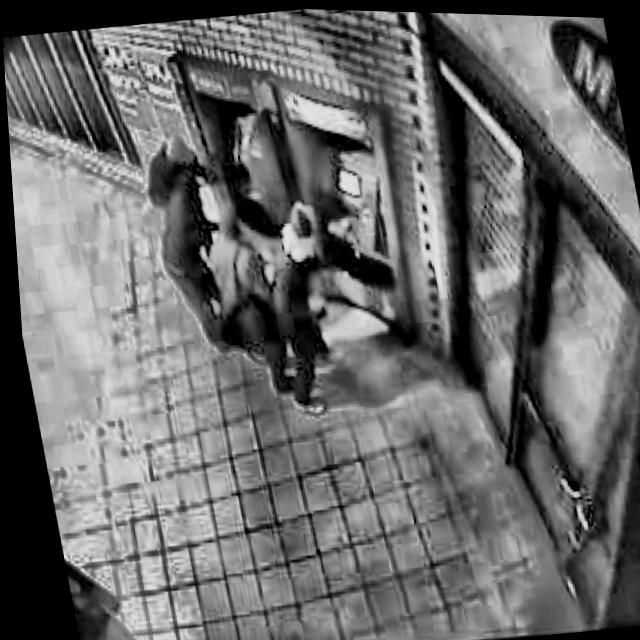burglary: (124, 77, 423, 436)
